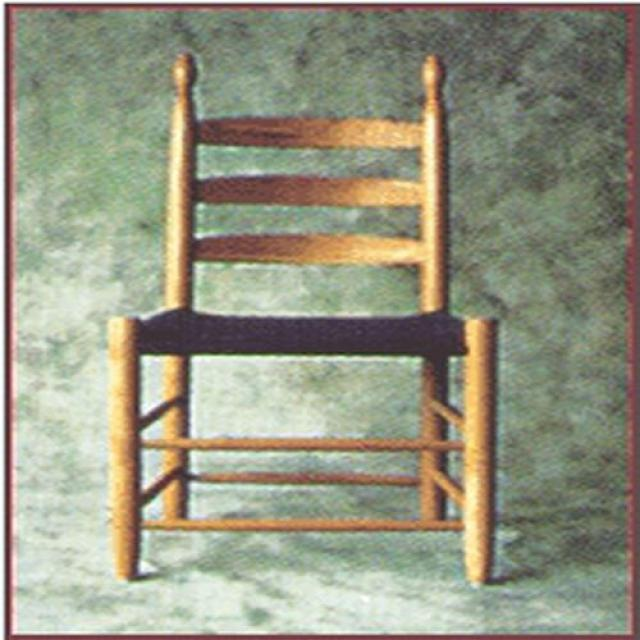chair: (110, 52, 500, 586)
